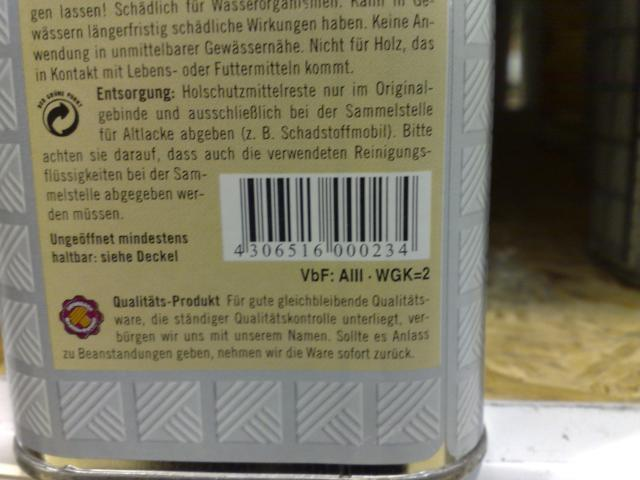Barcode: (217, 174, 432, 260)
